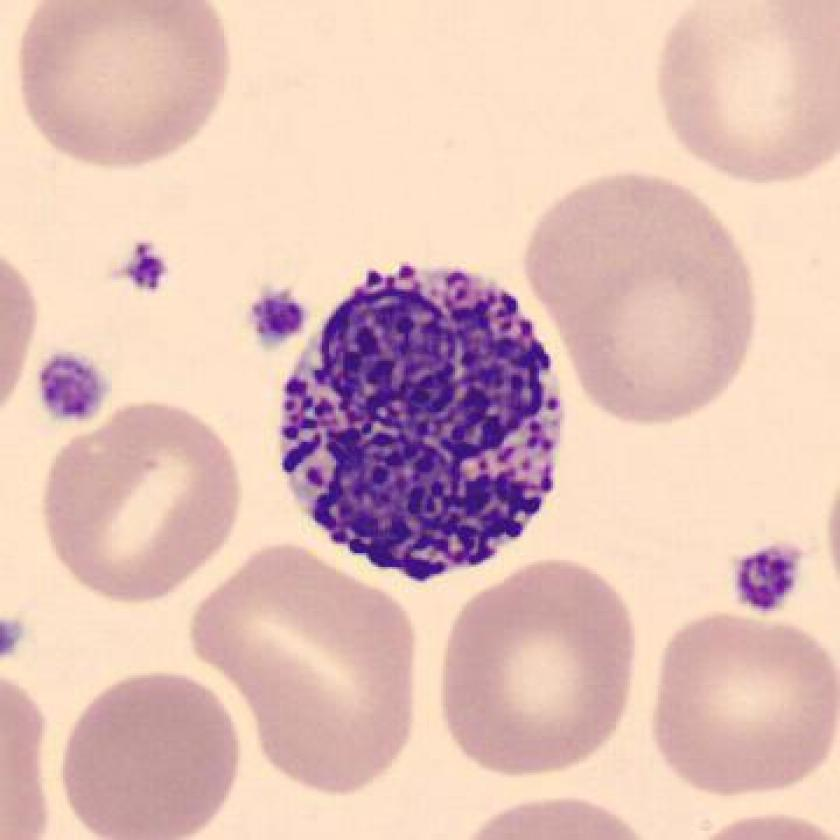basophil: (279, 253, 570, 596)
